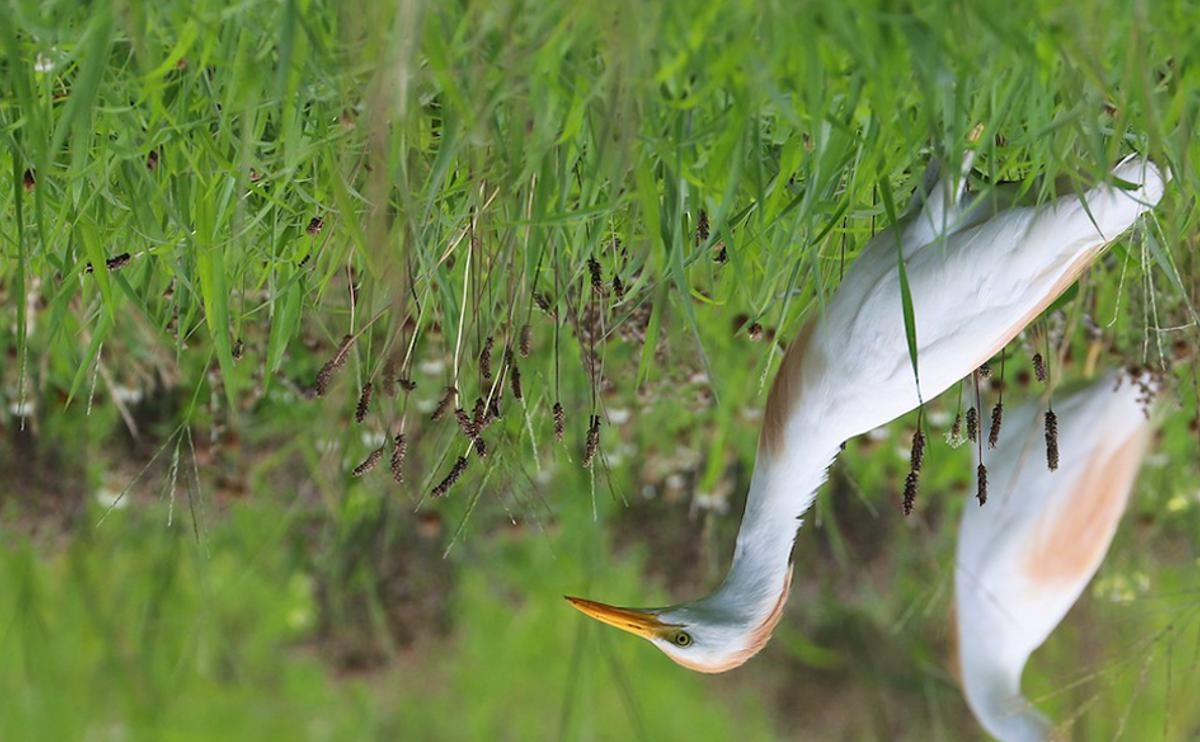egret: (563, 137, 1153, 679)
